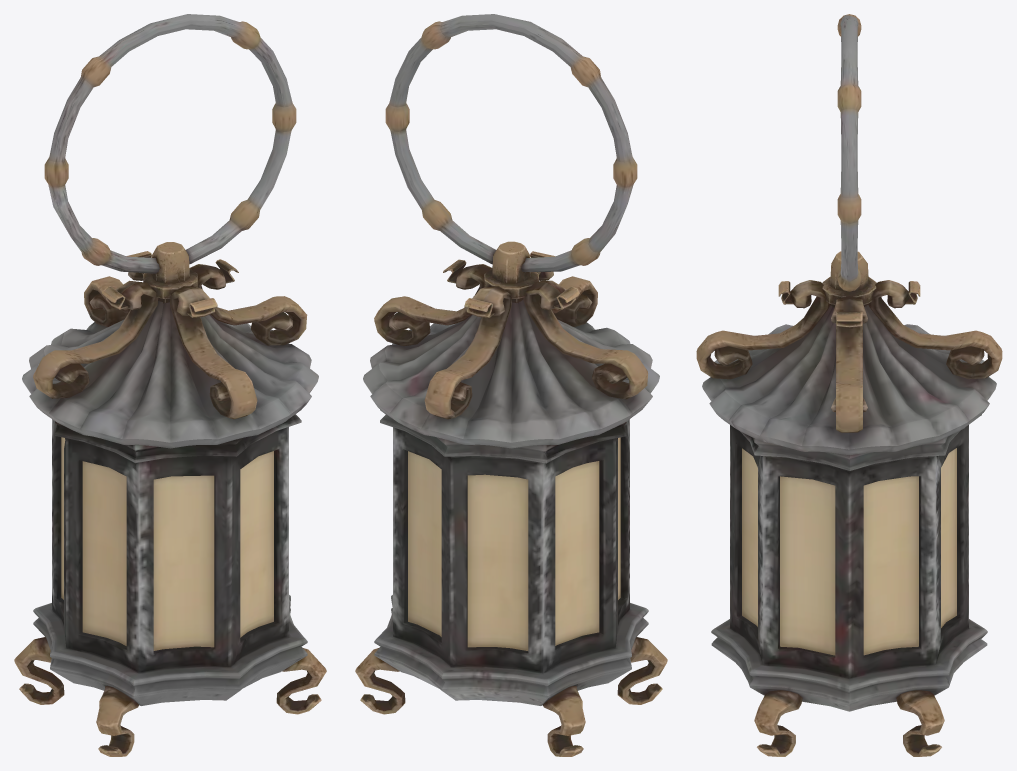
Rendered from lantern_old.glb.
3 renders of one model, left to right at view 1: azimuth 30°, elevation 25°; view 2: azimuth 150°, elevation 25°; view 3: azimuth 270°, elevation 25°, orthographic.
Parts seen in each view (by area): view 1: defaultMaterial; view 2: defaultMaterial; view 3: defaultMaterial.
Boxes of the visible parts, <box> form: defaultMaterial: <box>14,14,326,756</box>; defaultMaterial: <box>355,14,667,756</box>; defaultMaterial: <box>696,14,1002,756</box>.
Size of the model in its own units: 44.76 by 110 by 44.76.
1 material, 1 textured.
